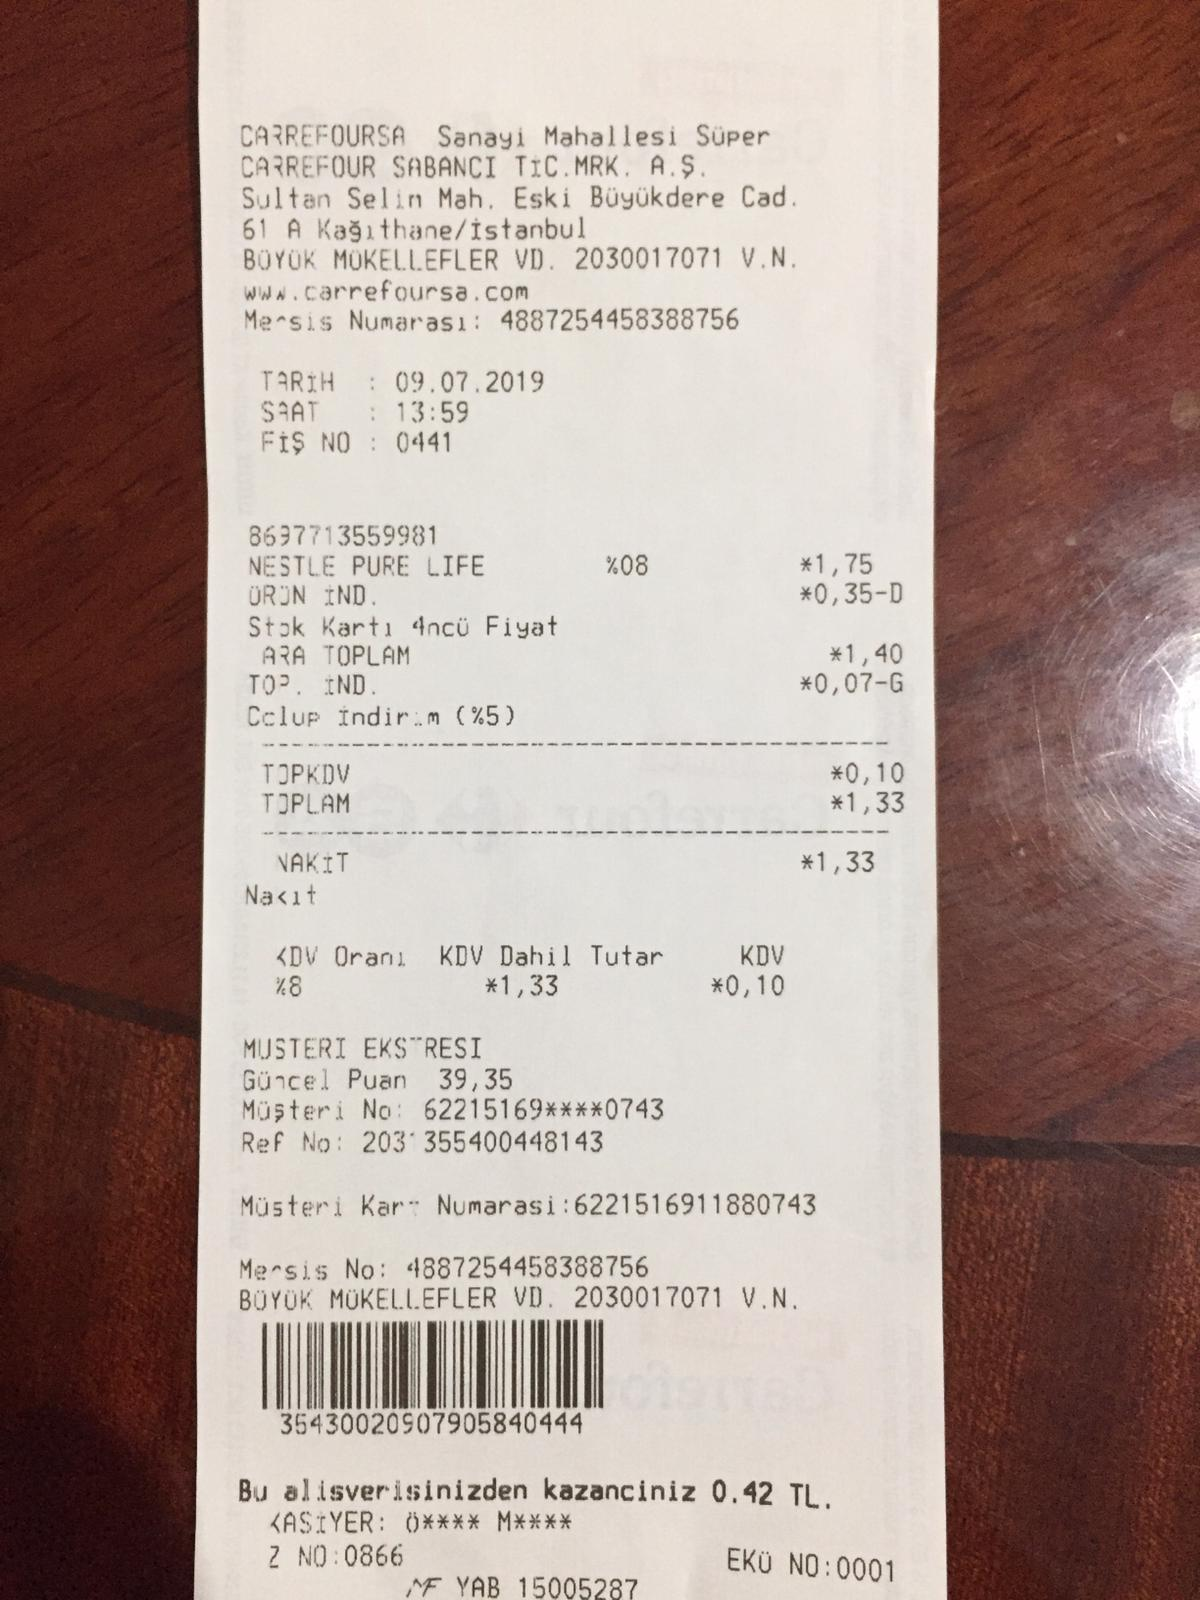total: (262, 784, 914, 827)
